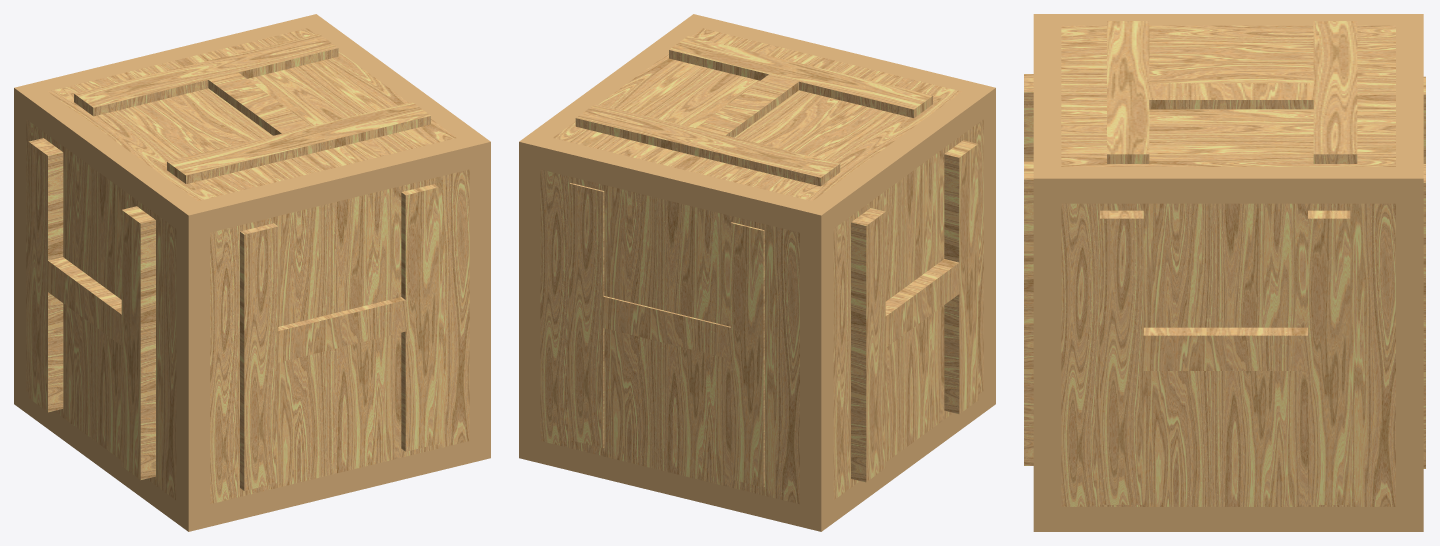
Rendered from Block H.fbx.
The picture shows the model from 3 angles, left to right: view 1: azimuth 30°, elevation 25°; view 2: azimuth 150°, elevation 25°; view 3: azimuth 270°, elevation 25°; orthographic projection. The views are drawn at different scales.
Visible parts, largest first — view 1: Box, FRONT, LEFT, TOP; view 2: Box, BACK, LEFT, TOP; view 3: Box, RIGHT, TOP, FRONT, BACK.
Boxes of the visible parts, x1,y1,x2,y2 form: Box: [14, 14, 490, 531]; FRONT: [240, 184, 438, 490]; LEFT: [28, 138, 155, 479]; TOP: [74, 34, 430, 183]; Box: [519, 14, 995, 531]; BACK: [569, 183, 764, 487]; LEFT: [851, 140, 978, 482]; TOP: [575, 36, 932, 186]; Box: [1033, 14, 1423, 531]; RIGHT: [1100, 210, 1350, 504]; TOP: [1107, 21, 1357, 163]; FRONT: [1024, 74, 1033, 465]; BACK: [1423, 76, 1425, 468].
Size of the model in its own units: 1.1 by 1.04 by 1.03.
Materials: 2 (2 with a texture image).
